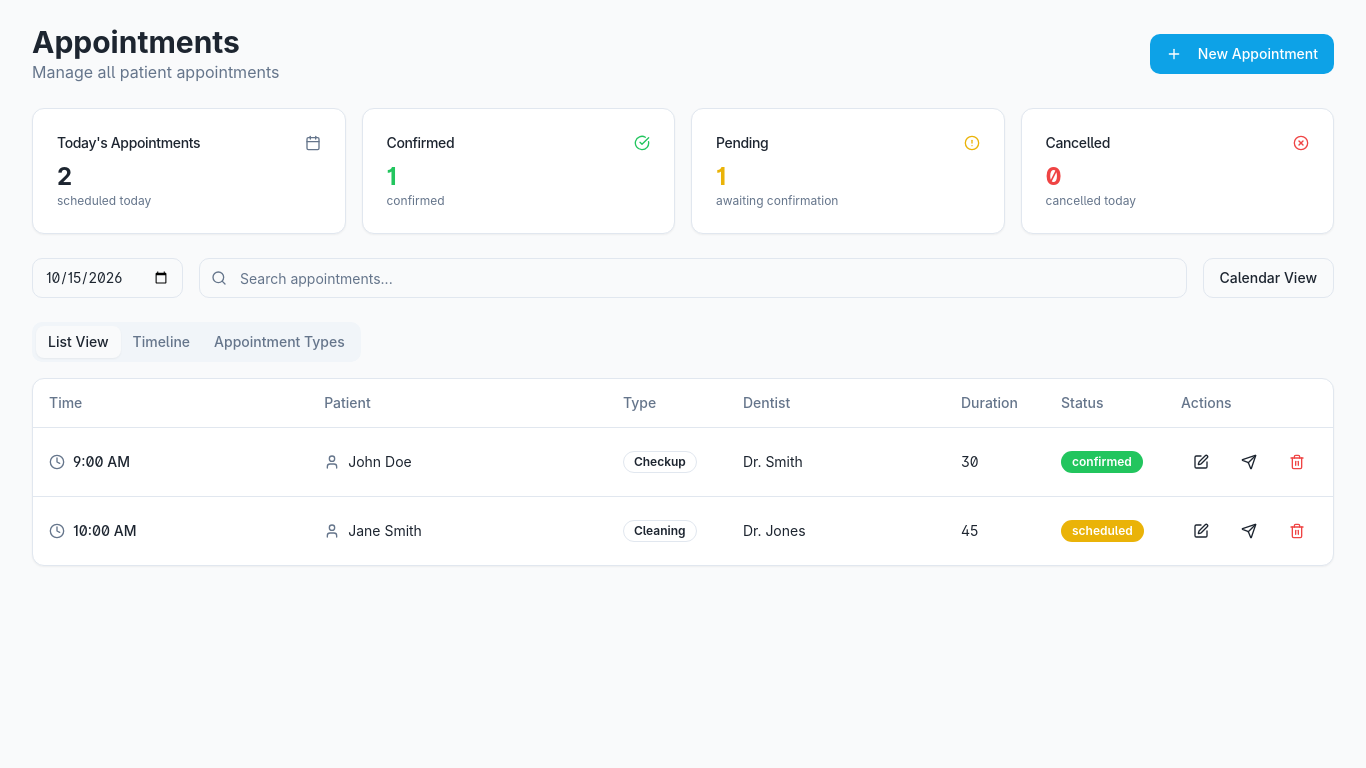
Test: Appointments Page Integration › should switch between list and timeline views
The image size is (1366, 768).
Click the tab "Timeline". click: click(161, 342)
box: [120,326,202,358]
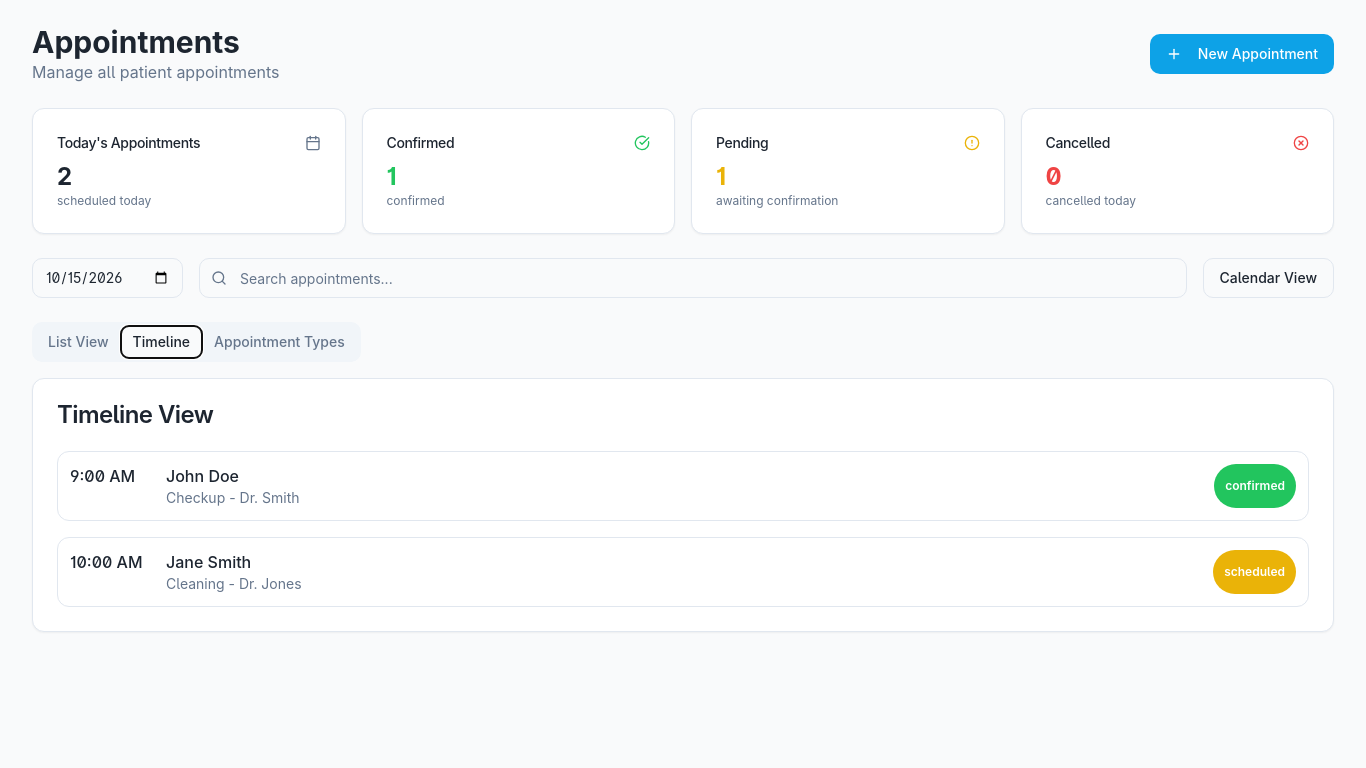
Now the text "Timeline View" is shown, box [57,400,213,429]
